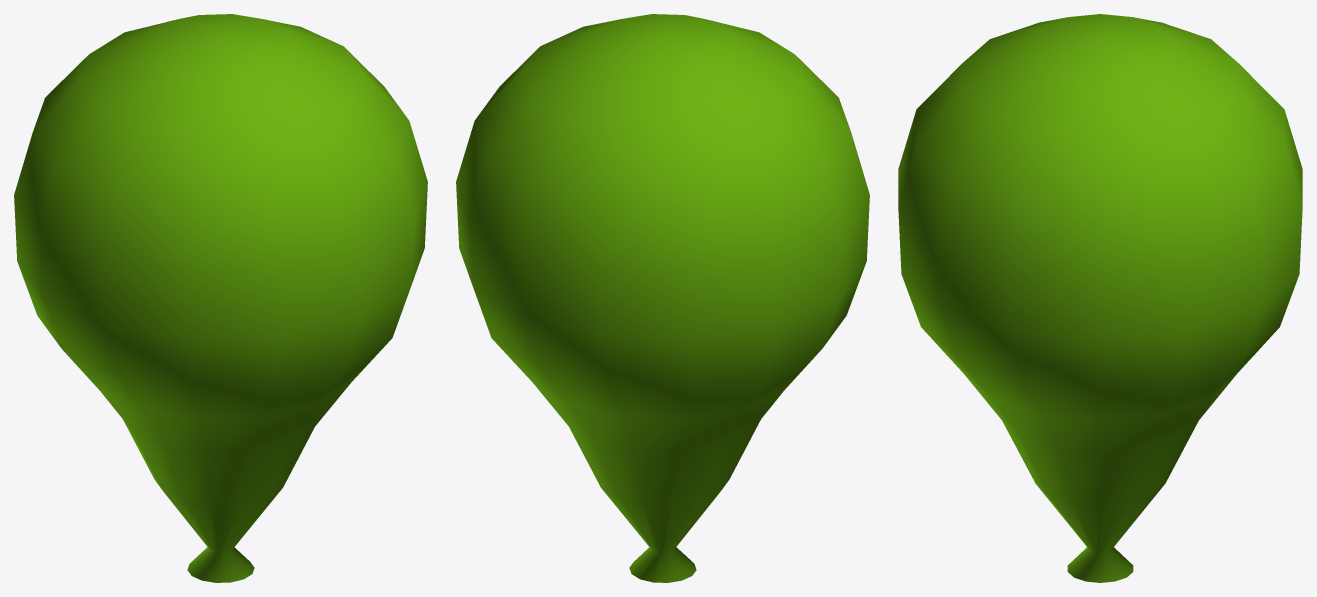
Rendered from Balloon_1.fbx.
3 renders of one model, left to right at view 1: azimuth 30°, elevation 25°; view 2: azimuth 150°, elevation 25°; view 3: azimuth 270°, elevation 25°, orthographic.
Visible parts, largest first — view 1: pSphere1; view 2: pSphere1; view 3: pSphere1.
Boxes of the visible parts, x1=… form: pSphere1: x1=14, y1=14, x2=427, y2=582; pSphere1: x1=456, y1=14, x2=869, y2=582; pSphere1: x1=898, y1=14, x2=1302, y2=582.
Bounding box in the file's own units: 281 × 399 × 274.
